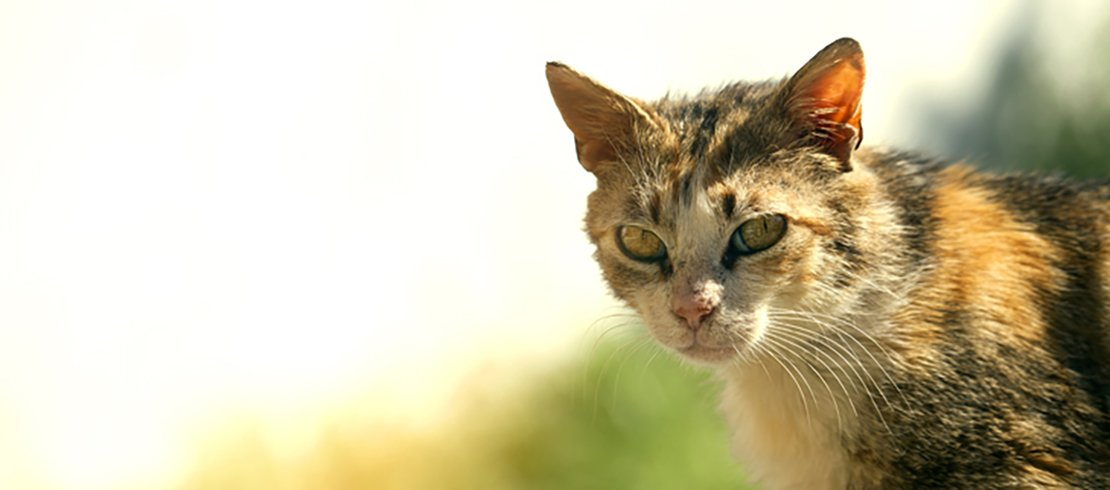Cat: (531, 26, 1110, 490)
